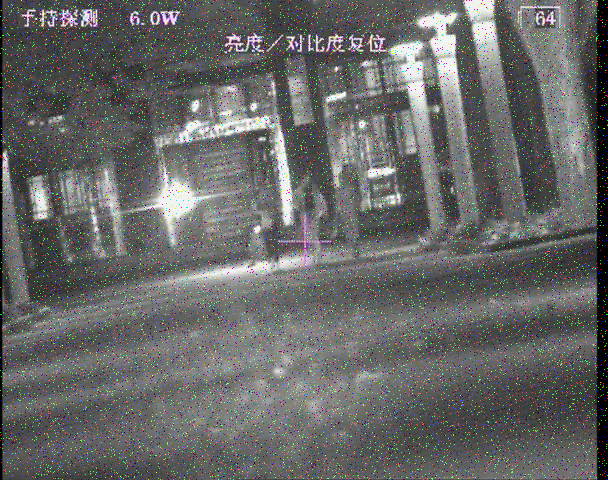my: (252, 224, 262, 233)
